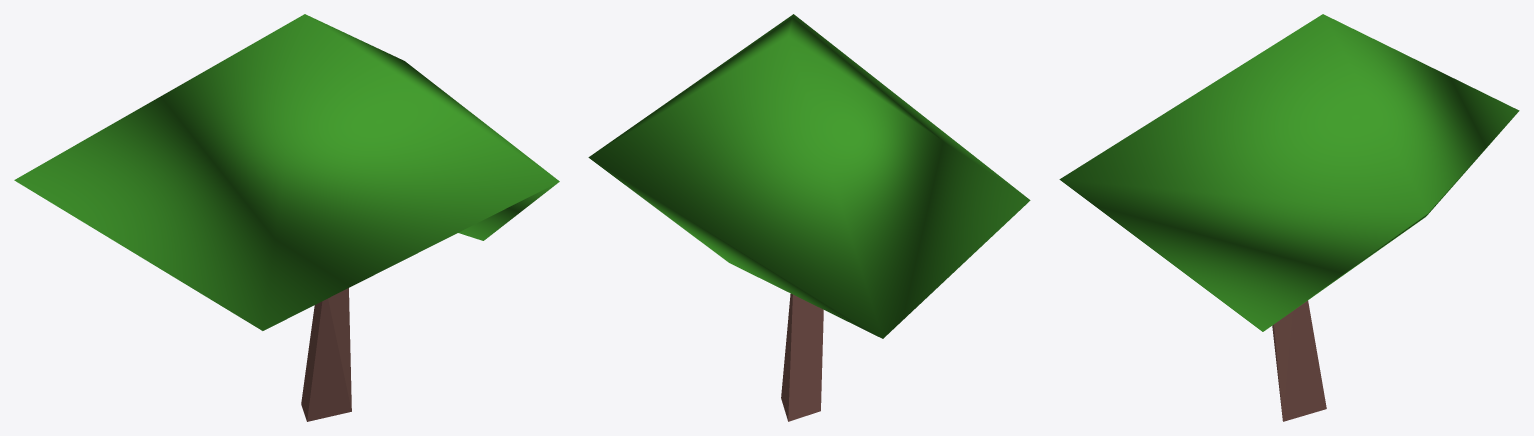
The model's file is forestTree.glb.
3 views of the same model, side by side, from view 1: azimuth 30°, elevation 25°; view 2: azimuth 150°, elevation 25°; view 3: azimuth 270°, elevation 25° (orthographic). The views are drawn at different scales.
Visible parts, largest first — view 1: Mball.009, Cube; view 2: Mball.009, Cube; view 3: Mball.009, Cube.
Part boxes in pixels (bbox=[...]): Mball.009: bbox=[14, 14, 559, 330]; Cube: bbox=[301, 288, 351, 421]; Mball.009: bbox=[588, 14, 1030, 338]; Cube: bbox=[781, 293, 823, 421]; Mball.009: bbox=[1059, 14, 1519, 331]; Cube: bbox=[1272, 300, 1326, 421].
Bounding box in the file's own units: 3.72 × 4.02 × 4.24.
